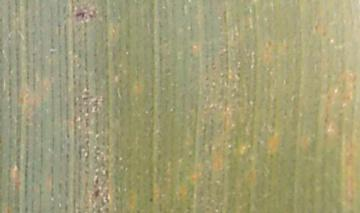tarspot: (149, 197, 154, 203)
